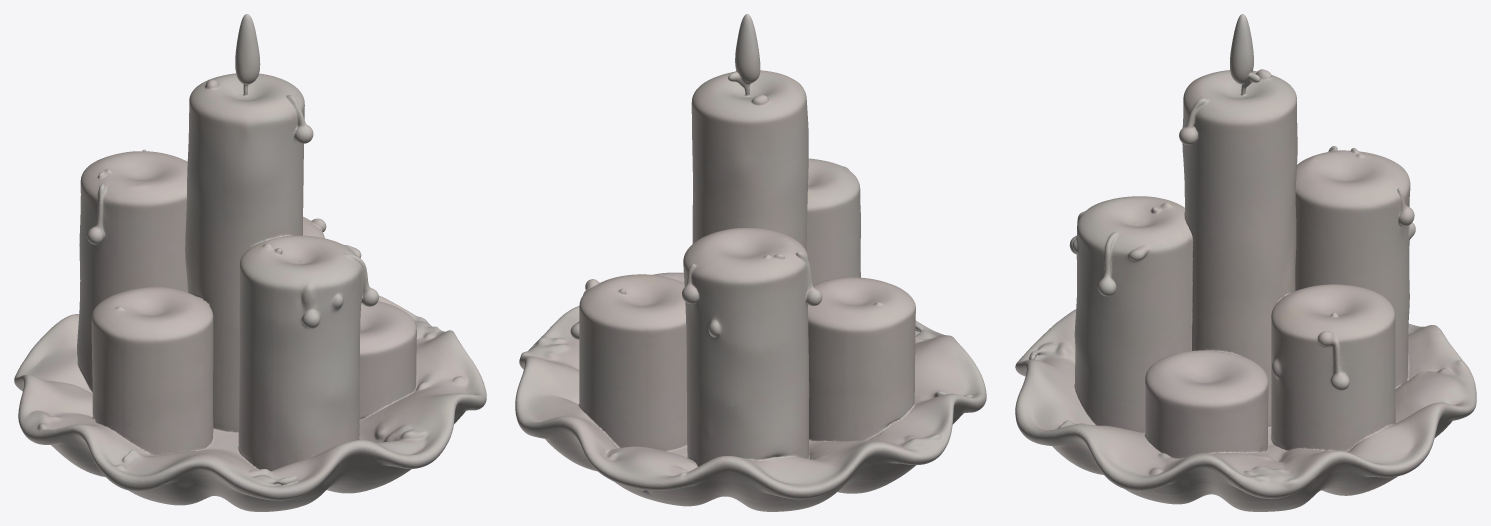
Rendered from detailed_realistic_model_floatingcandles_30.glb.
The picture shows the model from 3 angles, left to right: view 1: azimuth 30°, elevation 25°; view 2: azimuth 150°, elevation 25°; view 3: azimuth 270°, elevation 25°; orthographic projection.
Parts seen in each view (by area): view 1: tripo_node_5c18dd32-6d23-4ad8-ab2c-f85a51205a38; view 2: tripo_node_5c18dd32-6d23-4ad8-ab2c-f85a51205a38; view 3: tripo_node_5c18dd32-6d23-4ad8-ab2c-f85a51205a38.
Part boxes in pixels (x1=…): tripo_node_5c18dd32-6d23-4ad8-ab2c-f85a51205a38: x1=14, y1=14, x2=486, y2=511; tripo_node_5c18dd32-6d23-4ad8-ab2c-f85a51205a38: x1=515, y1=14, x2=986, y2=511; tripo_node_5c18dd32-6d23-4ad8-ab2c-f85a51205a38: x1=1015, y1=14, x2=1476, y2=511.
Size of the model in its own units: 0.9513 by 1 by 0.9238.
Materials: 1 (1 with a texture image).
